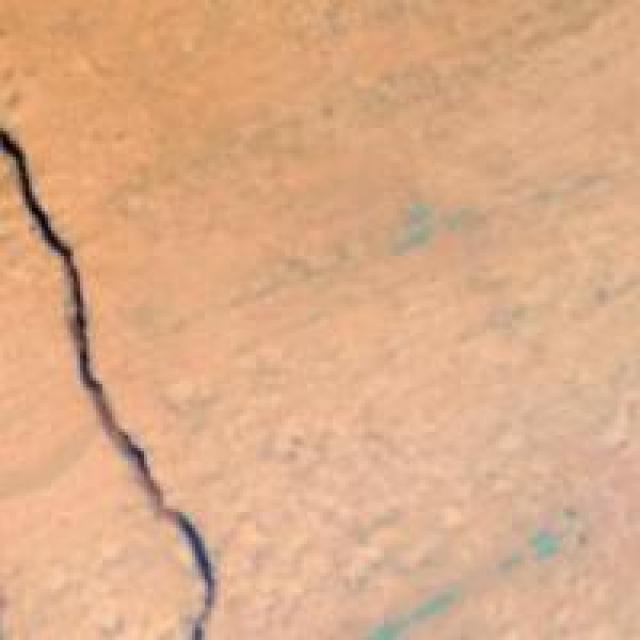crack: (3, 109, 256, 637)
